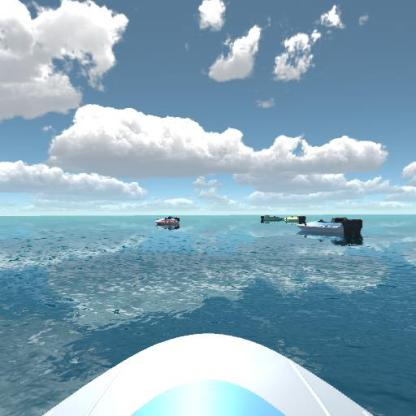usv0: (260, 209, 284, 224)
usv1: (295, 216, 367, 247)
usv2: (284, 211, 308, 227)
usv3: (152, 213, 183, 231)
